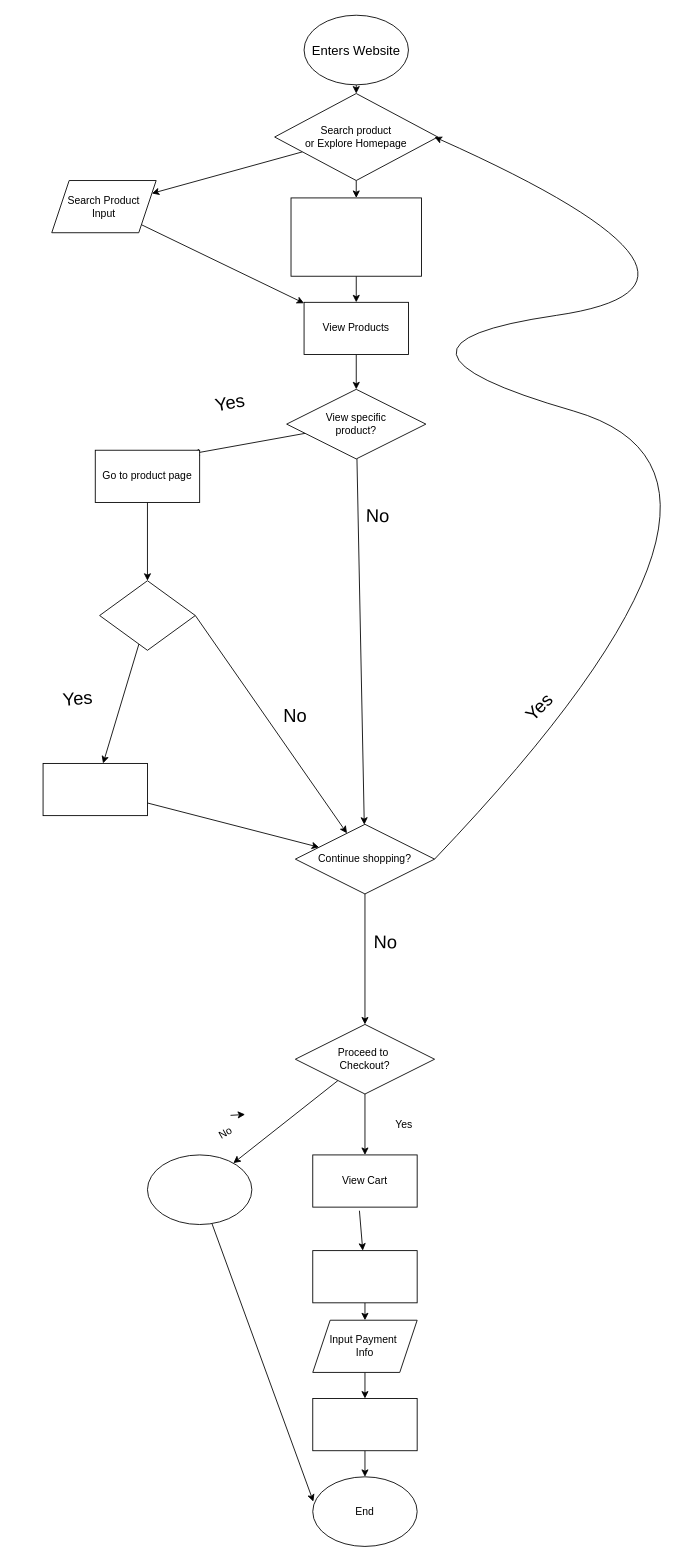
Image size: 676x1562. Some labels were removed from this diagram. Each missing label, with the centre of its shape:
"Add to Cart?" belongs at point (147, 615).
"Added to Cart Confirmation" belongs at point (94, 789).
"Browse Home Page Products" belongs at point (356, 236).
"Exit Website" belongs at point (199, 1189).
"Order Confiration Screen and Email Sent" belongs at point (364, 1424).
"View Payment Screen" belongs at point (364, 1276).
